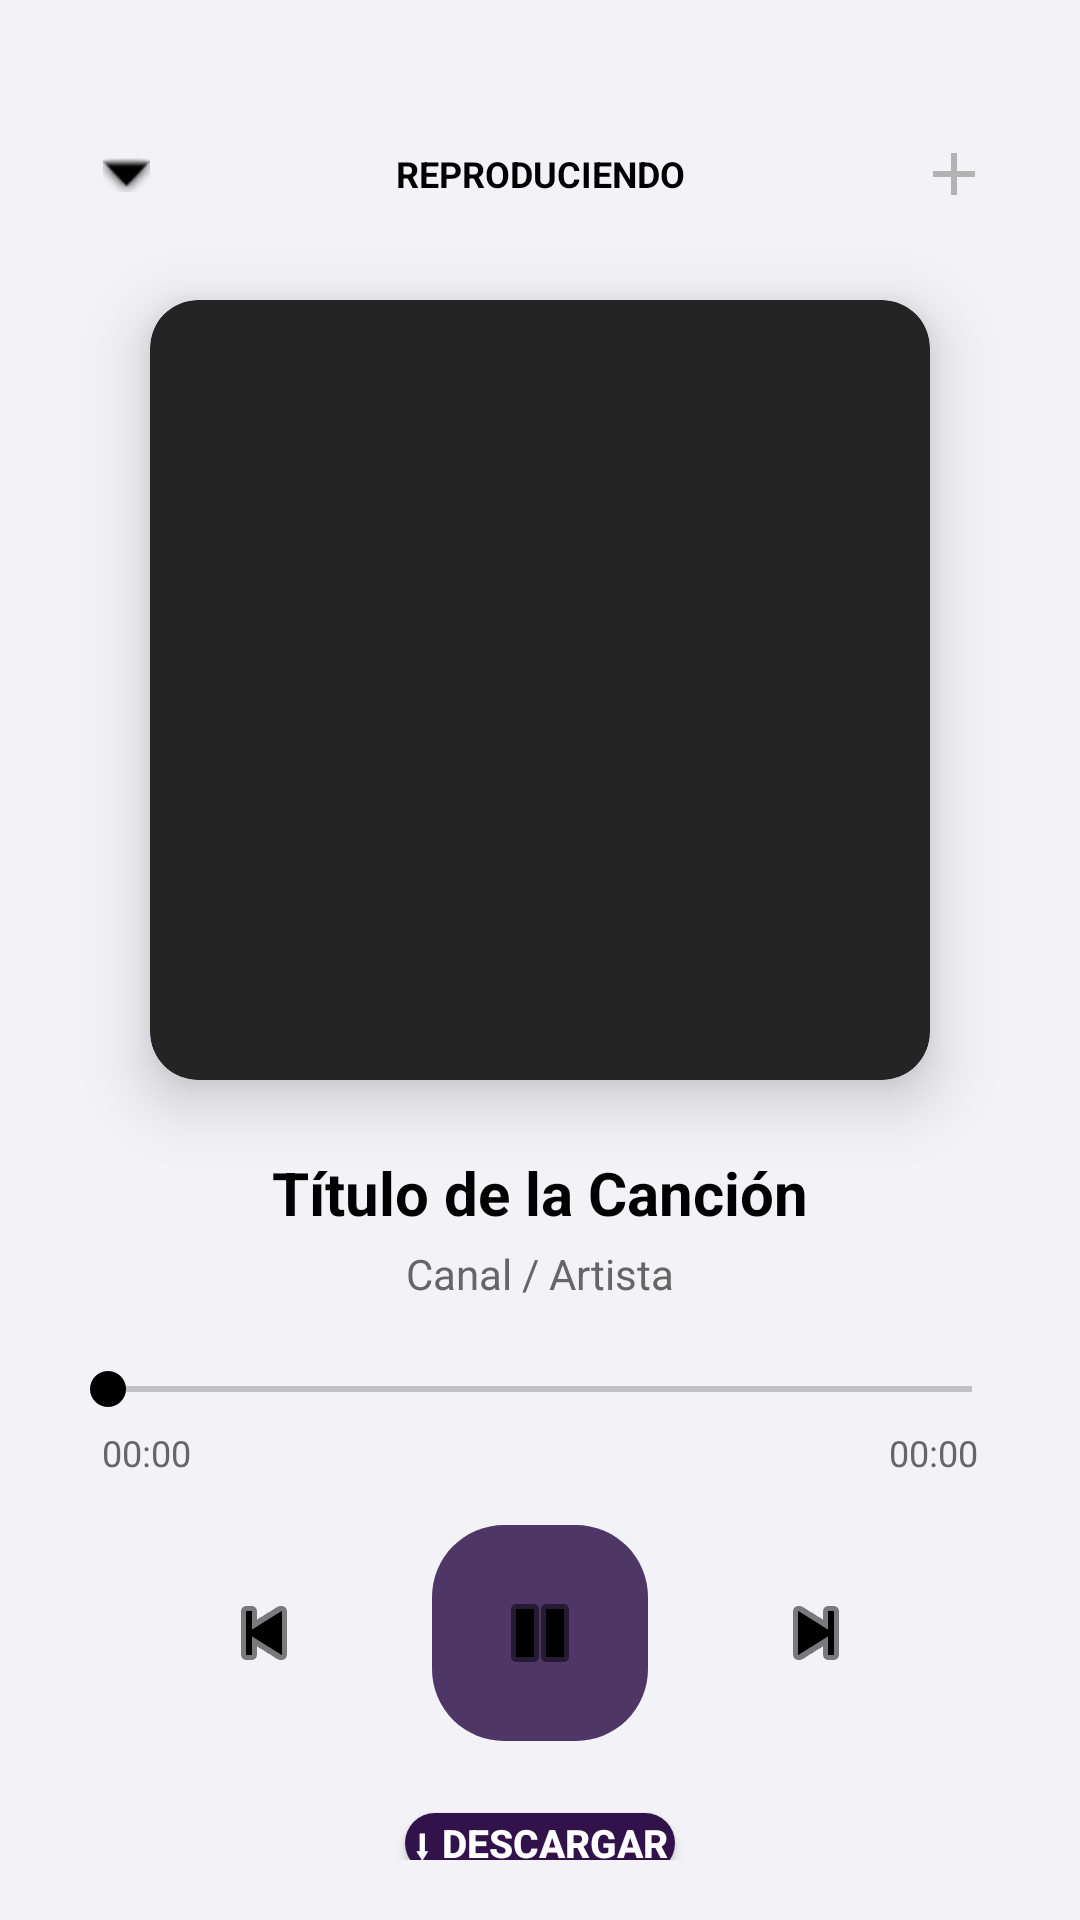

Icon bounding boxes for this 1080px×1920px phone screenshot, format (x1, y1, x2, y2):
Agregar a Favoritos: (933, 153, 975, 195)
Canción Anterior: (241, 1606, 287, 1660)
Canción Siguiente: (793, 1606, 839, 1660)
Colapsar a mini reproductor: (103, 159, 150, 191)
Play o Pausa: (432, 1525, 648, 1741)
